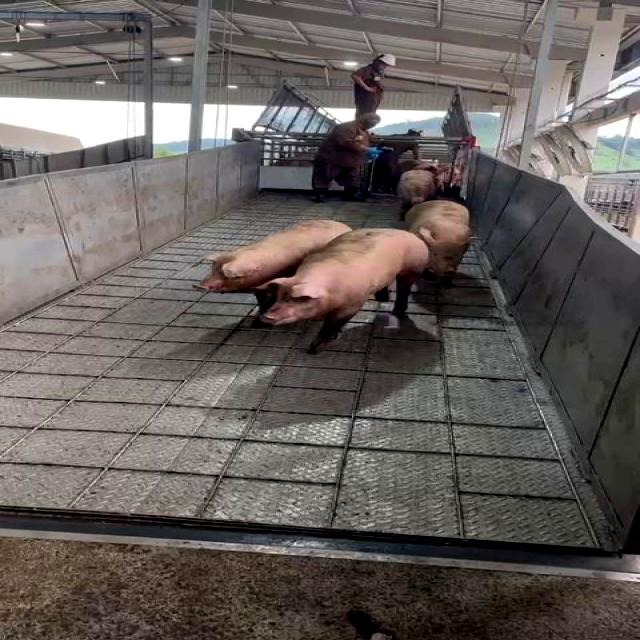pig: (259, 229, 429, 352), (195, 220, 351, 292), (406, 200, 470, 287), (396, 170, 438, 218)
